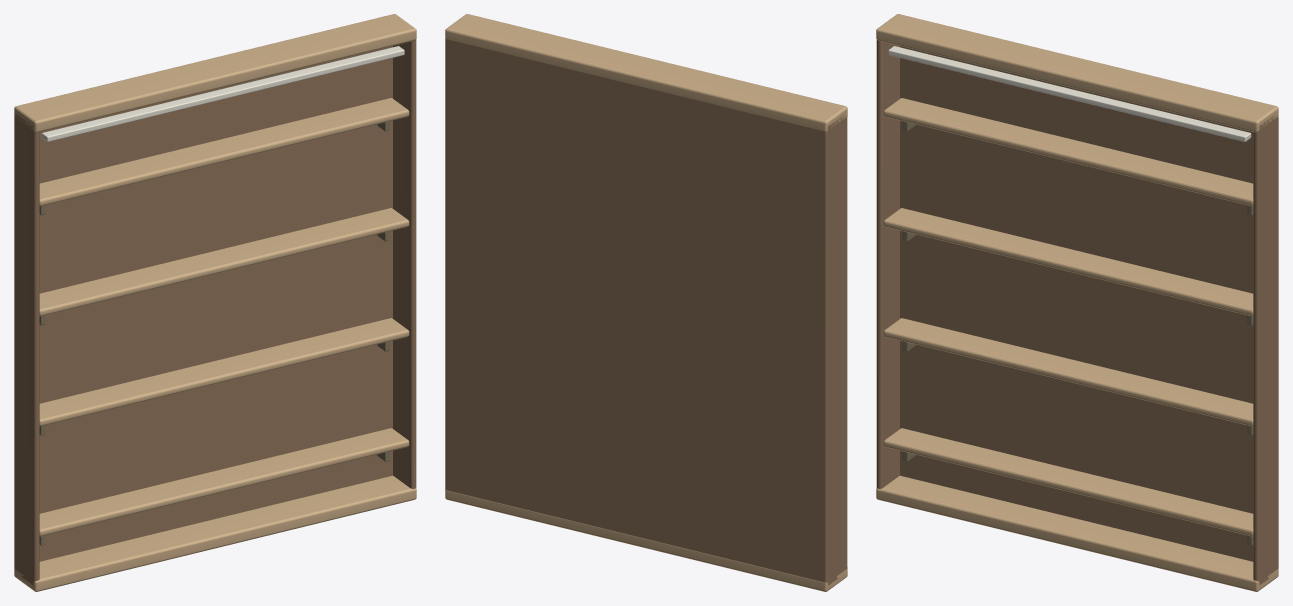
File: wall_shoes.glb
3 renders of one model, left to right at view 1: azimuth 30°, elevation 25°; view 2: azimuth 150°, elevation 25°; view 3: azimuth 330°, elevation 25°, orthographic.
Visible parts, largest first — view 1: Closed back, seated against existing opaque boundary, Bottom / crown.001, Outer stile, Bottom / crown, Outer stile.001, Load-bearing shelf, Load-bearing shelf.002, Load-bearing shelf.003, Load-bearing shelf.001, Integrated light diffuser; view 2: Closed back, seated against existing opaque boundary, Bottom / crown.001, Outer stile, Bottom / crown; view 3: Closed back, seated against existing opaque boundary, Bottom / crown.001, Outer stile.001, Bottom / crown, Outer stile, Load-bearing shelf, Load-bearing shelf.002, Load-bearing shelf.003, Load-bearing shelf.001, Integrated light diffuser.
Boxes of the visible parts, x1=… form: Closed back, seated against existing opaque boundary: x1=14, y1=46, x2=392, y2=568; Bottom / crown.001: x1=14, y1=14, x2=416, y2=132; Outer stile: x1=15, y1=113, x2=39, y2=584; Bottom / crown: x1=14, y1=475, x2=416, y2=591; Outer stile.001: x1=393, y1=40, x2=416, y2=488; Load-bearing shelf: x1=39, y1=428, x2=409, y2=536; Load-bearing shelf.002: x1=39, y1=208, x2=409, y2=316; Load-bearing shelf.003: x1=39, y1=98, x2=409, y2=206; Load-bearing shelf.001: x1=39, y1=318, x2=409, y2=426; Integrated light diffuser: x1=41, y1=46, x2=404, y2=141; Closed back, seated against existing opaque boundary: x1=445, y1=39, x2=828, y2=585; Bottom / crown.001: x1=445, y1=14, x2=847, y2=131; Outer stile: x1=828, y1=115, x2=847, y2=584; Bottom / crown: x1=445, y1=490, x2=847, y2=591; Closed back, seated against existing opaque boundary: x1=900, y1=46, x2=1278, y2=568; Bottom / crown.001: x1=876, y1=14, x2=1278, y2=132; Outer stile.001: x1=1253, y1=115, x2=1277, y2=584; Bottom / crown: x1=876, y1=475, x2=1278, y2=591; Outer stile: x1=876, y1=40, x2=899, y2=488; Load-bearing shelf: x1=883, y1=428, x2=1253, y2=536; Load-bearing shelf.002: x1=883, y1=208, x2=1253, y2=316; Load-bearing shelf.003: x1=883, y1=98, x2=1253, y2=206; Load-bearing shelf.001: x1=883, y1=318, x2=1253, y2=426; Integrated light diffuser: x1=888, y1=46, x2=1251, y2=141.
Size of the model in its own units: 2 by 2.36 by 0.2.
